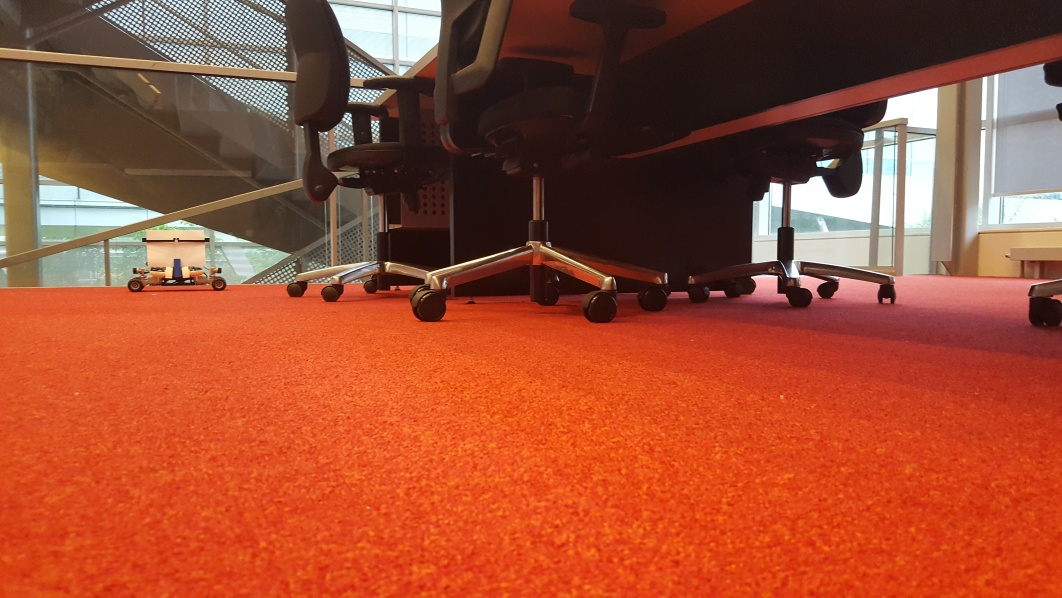car: (123, 226, 230, 294)
